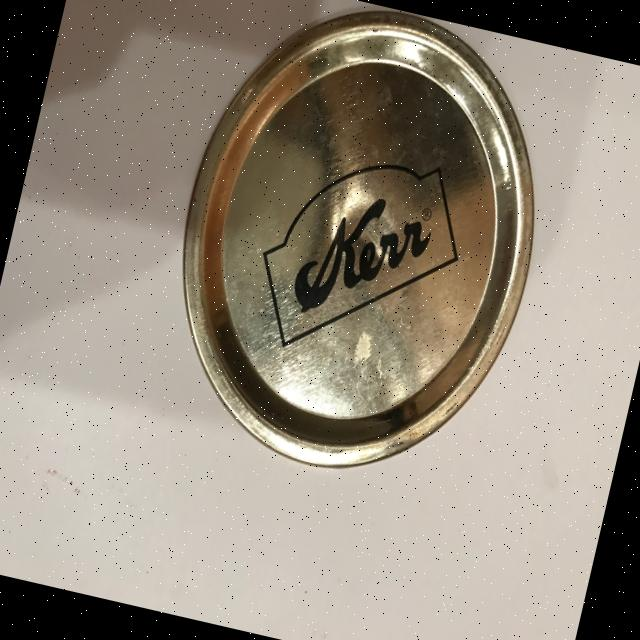metal: (136, 0, 579, 503)
